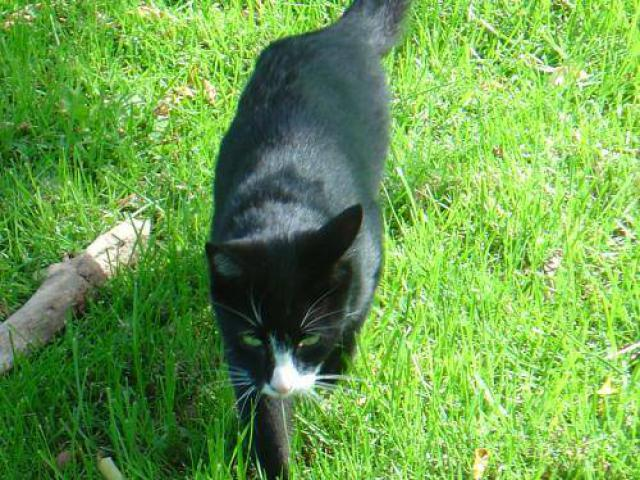dog: (210, 1, 404, 467)
